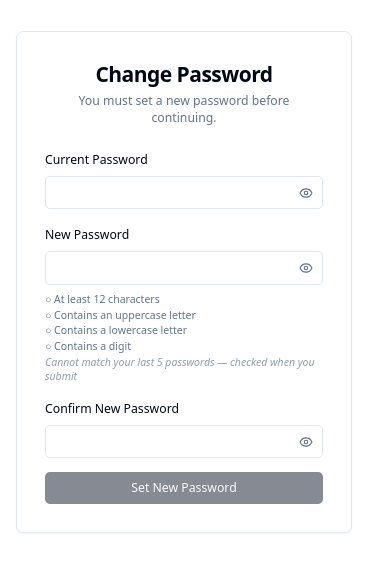
server errors › puts a pydantic 422 array under the new-password field
Type "old" into the password field labelled "Current Password" at (184, 193), box x1=45 y1=176 x2=323 y2=209
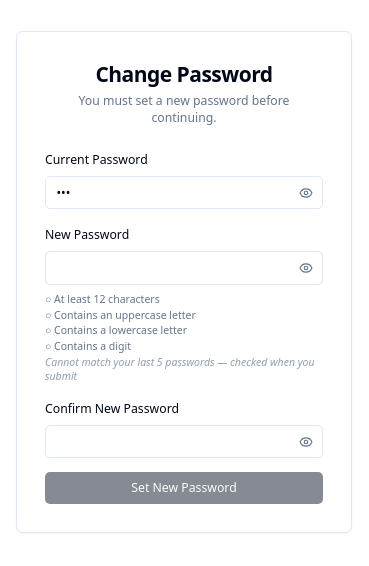
Type "Abcdefghij12" into the password field labelled "New Password" at (184, 268), box x1=45 y1=251 x2=323 y2=285
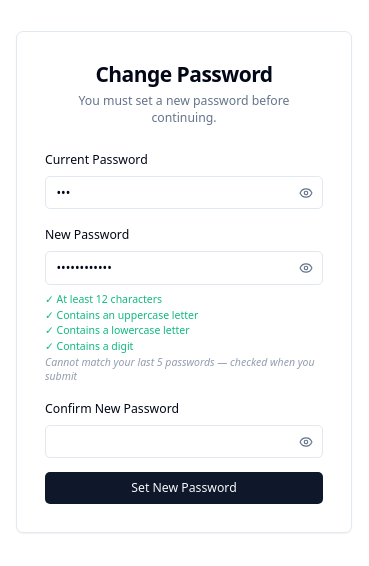
Type "Abcdefghij12" into the password field labelled "Confirm New Password" at (184, 442), box x1=45 y1=425 x2=323 y2=458
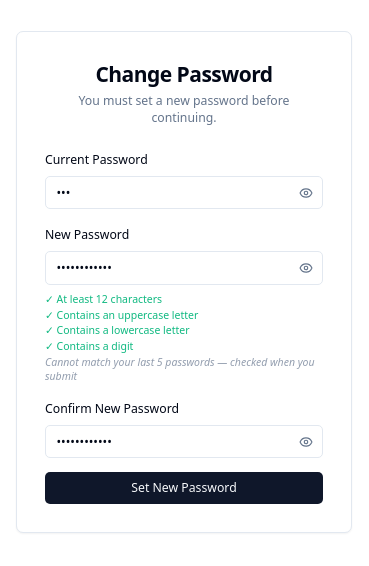
Click the button "Set New Password" at (184, 488), box x1=45 y1=472 x2=323 y2=504
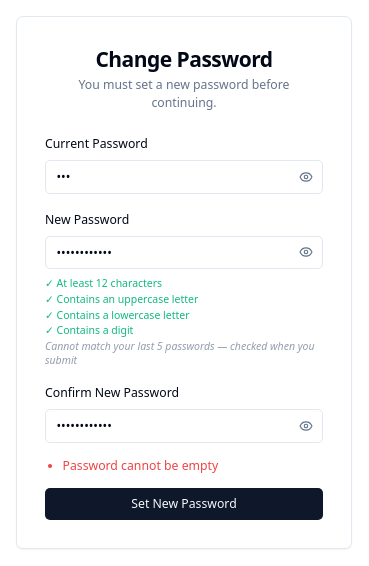
Now the list item "Password cannot be empty" is shown, box x1=62 y1=456 x2=218 y2=474
